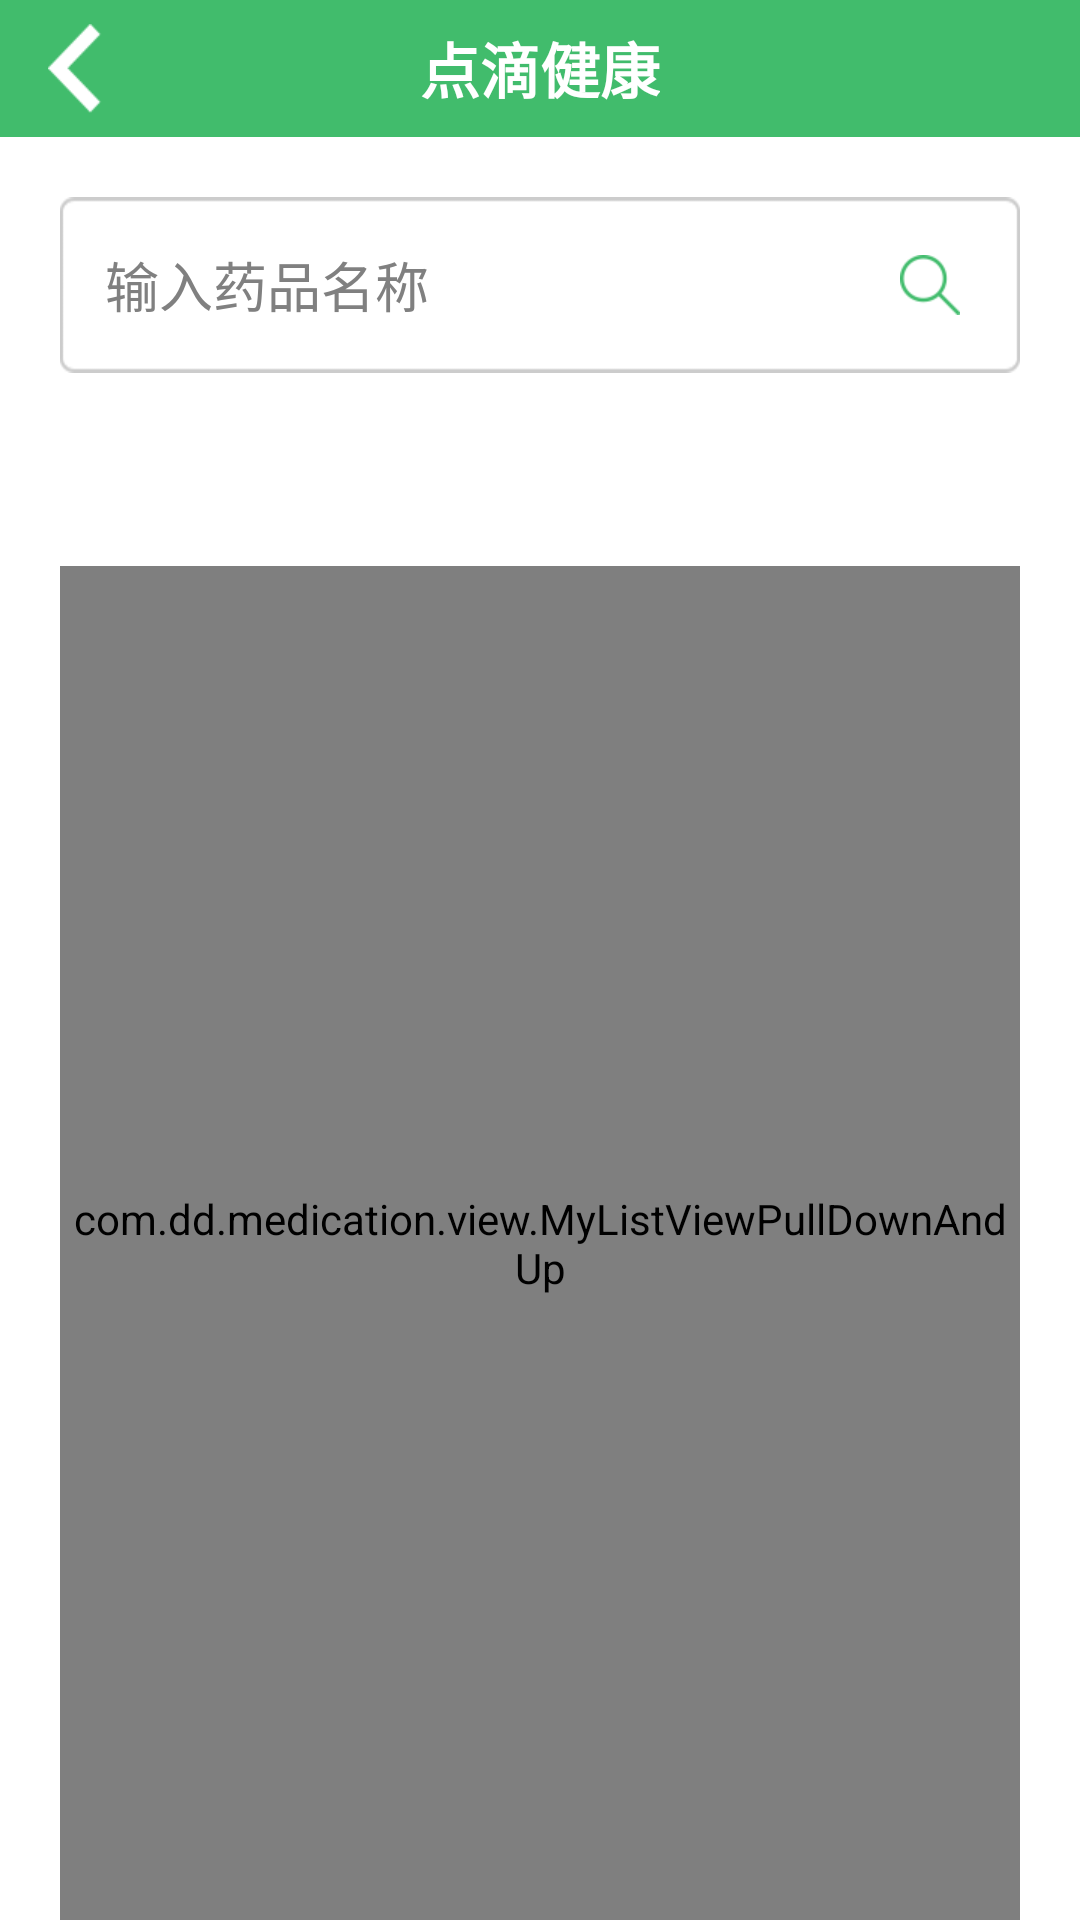

Locate icon controls on the screen. Image size 1080 × 1920, boxes as (x1, y1, x2, y2).
search: (900, 255, 960, 315)
